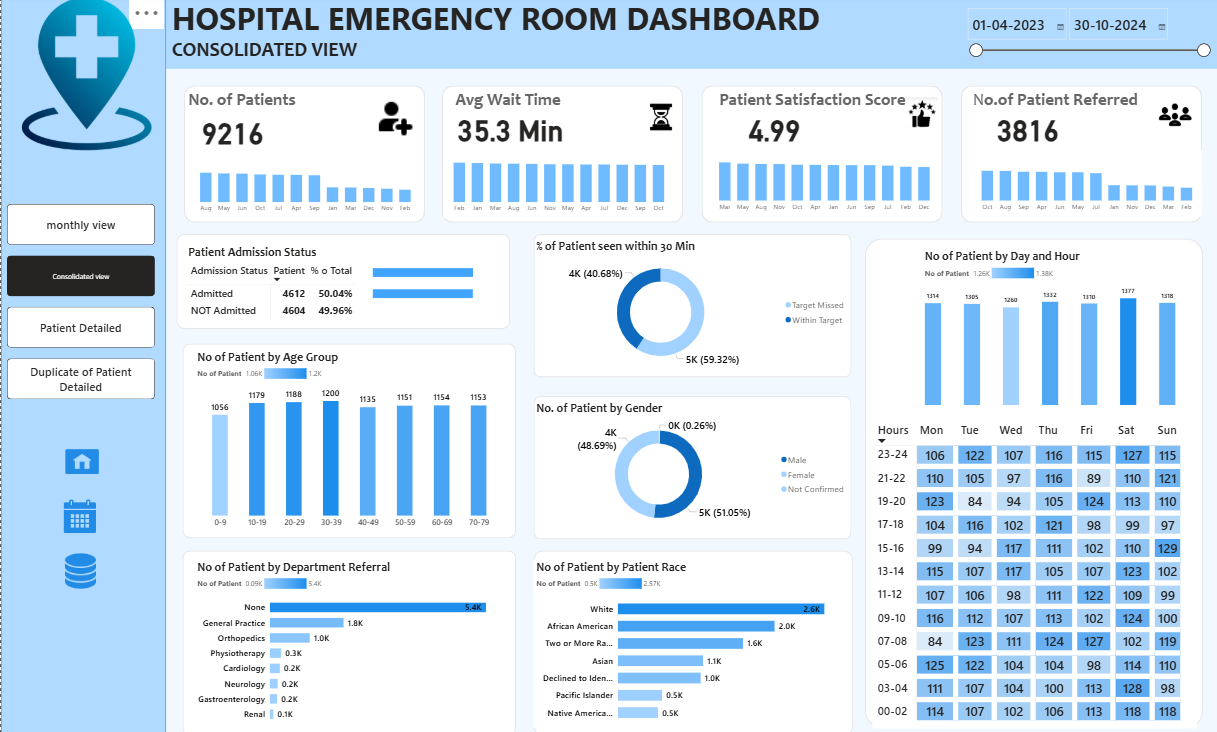

Layout of this report page (visuals, bound fields, positions):
{"tool":"powerbi","page":{"name":"Consolidated view","canvas":[2300,1400],"ordinal":1},"visuals":[{"type":"shape","box":[0,0,311.8,1400],"z":0},{"type":"shape","box":[311.8,0,1987,141.2],"z":1000},{"type":"textbox","box":[317.6,0,1979.4,105.9],"z":2000},{"type":"shape","box":[344.1,172.8,455,258.8],"z":3000},{"type":"textbox","box":[347.1,173.5,261.8,67.6],"z":4000},{"type":"card","fields":{"Values":["Hospital ER_Data.No of Patient"]},"box":[347.1,214.7,176.5,82.4],"z":5000},{"type":"slicer","fields":{"Values":["Date Table.Date"]},"box":[1811.8,17.6,479.4,105.9],"z":6000},{"type":"textbox","box":[317.6,76.5,379.4,97.1],"z":8000},{"type":"columnChart","fields":{"Y":["Hospital ER_Data.No of Patient"],"Category":["Date Table.Month Name"]},"box":[356.9,298,435.3,125],"z":9000},{"type":"shape","box":[833.3,172.8,455,258.8],"z":11000},{"type":"textbox","box":[852.9,173.5,261.8,67.6],"z":12000},{"type":"card","fields":{"Values":["Hospital ER_Data.Avg Wait Time"]},"box":[852.9,208.8,217.6,82.4],"z":13000},{"type":"columnChart","fields":{"Y":["Avg(Hospital ER_Data.Patient Waittime)"],"Category":["Date Table.Month Name"]},"box":[836.3,298,435.3,125],"z":14000},{"type":"shape","box":[1811.8,172.8,455,258.8],"z":15000},{"type":"shape","box":[1322.5,172.8,455,258.8],"z":16000},{"type":"textbox","box":[1350,173.5,388.2,58.8],"z":17000},{"type":"card","fields":{"Values":["Hospital ER_Data.Satisfaction Score"]},"box":[1350,208.8,217.6,82.4],"z":18000},{"type":"columnChart","fields":{"Y":["Avg(Hospital ER_Data.Patient Satisfaction Score)"],"Category":["Date Table.Month Name"]},"box":[1336.3,295.1,435.3,125],"z":19000},{"type":"textbox","box":[1829.4,173.5,394.1,67.6],"z":20000},{"type":"card","fields":{"Values":["Hospital ER_Data.No.of Patient Referred"]},"box":[1829.4,208.8,217.6,82.4],"z":21000},{"type":"columnChart","fields":{"Category":["Date Table.Month Name"],"Y":["Hospital ER_Data.No.of Patient Referred"]},"box":[1830.4,295.1,435.3,125],"z":22000},{"type":"shape","box":[332.4,452.9,629.4,179.4],"z":23000},{"type":"pivotTable","title":"Patient Admission Status","fields":{"Rows":["Hospital ER_Data.Admission Status"],"Values":["Hospital ER_Data.No of Patient1","Hospital ER_Data.No of Patient"]},"box":[347.1,473.5,614.7,158.8],"z":24000},{"type":"barChart","fields":{"Category":["Hospital ER_Data.Admission Status"],"Y":["Hospital ER_Data.No of Patient"]},"box":[697.1,485.3,255.9,117.6],"z":25000},{"type":"shape","box":[341.2,658.8,629.4,367.6],"z":26000},{"type":"clusteredColumnChart","fields":{"Category":["Hospital ER_Data.Age Group"],"Y":["Hospital ER_Data.No of Patient"]},"box":[364.7,670.6,585.3,347.1],"z":27000},{"type":"shape","box":[1005.9,452.9,600,270.6],"z":28000},{"type":"shape","box":[341.2,1050,629.4,350],"z":29000},{"type":"clusteredBarChart","fields":{"Category":["Hospital ER_Data.Department Referral"],"Y":["Hospital ER_Data.No of Patient"]},"box":[364.7,1067.6,582.4,317.6],"z":30000},{"type":"donutChart","title":"% of Patient seen within 30 Min","fields":{"Category":["Hospital ER_Data.waittime Status"],"Y":["Hospital ER_Data.No of Patient"]},"box":[1005.9,461.8,600,250],"z":31000},{"type":"shape","box":[1005.9,758.8,600,270.6],"z":32000},{"type":"donutChart","title":"No. of Patient by Gender","fields":{"Y":["Hospital ER_Data.No of Patient"],"Category":["Hospital ER_Data.Patient Gender"]},"box":[1005.9,767.6,600,250],"z":33000},{"type":"shape","box":[1005.9,1050,602.9,350],"z":34000},{"type":"clusteredBarChart","fields":{"Y":["Hospital ER_Data.No of Patient"],"Category":["Hospital ER_Data.Patient Race"]},"box":[1005.9,1067.6,582.4,317.6],"z":35000},{"type":"shape","box":[1629.4,461.8,638.2,923.5],"z":36000},{"type":"pivotTable","fields":{"Rows":["Hospital ER_Data.Waittime Interval"],"Columns":["Date Table.Day Name"],"Values":["Hospital ER_Data.No of Patient"]},"box":[1644.1,800,611.8,585.3],"z":37000},{"type":"columnChart","title":"No of Patient by Day and Hour","fields":{"Category":["Date Table.Day Name"],"Y":["Hospital ER_Data.No of Patient"]},"box":[1738.2,482.4,485.3,300],"z":38000},{"type":"image","box":[1202.9,197.1,85.3,67.6],"z":39000},{"type":"image","box":[708.8,197.1,73.5,73.5],"z":40000},{"type":"image","box":[1688.2,188.2,100,67.6],"z":41000},{"type":"image","box":[2173.5,170.6,82.4,114.7],"z":42000},{"type":"image","box":[11.8,0,300,300],"z":43000},{"type":"pageNavigator","box":[11.8,397.1,279.4,370.6],"z":43001}]}

Visuals, with their boxes on the page's 2300x1400 design canvas (x1, y1, x2, y2). These are canvas units, not pixel positions in the 1217x732 screenshot, which may show the page scaled, cropped or inside an application window:
shape: bbox=[0, 0, 312, 1400]
shape: bbox=[312, 0, 2299, 141]
textbox: bbox=[318, 0, 2297, 106]
shape: bbox=[344, 173, 799, 432]
textbox: bbox=[347, 174, 609, 241]
card - Hospital ER_Data.No of Patient: bbox=[347, 215, 524, 297]
slicer - Date Table.Date: bbox=[1812, 18, 2291, 124]
textbox: bbox=[318, 76, 697, 174]
columnChart - Hospital ER_Data.No of Patient x Date Table.Month Name: bbox=[357, 298, 792, 423]
shape: bbox=[833, 173, 1288, 432]
textbox: bbox=[853, 174, 1115, 241]
card - Hospital ER_Data.Avg Wait Time: bbox=[853, 209, 1070, 291]
columnChart - Avg(Hospital ER_Data.Patient Waittime) x Date Table.Month Name: bbox=[836, 298, 1272, 423]
shape: bbox=[1812, 173, 2267, 432]
shape: bbox=[1322, 173, 1778, 432]
textbox: bbox=[1350, 174, 1738, 232]
card - Hospital ER_Data.Satisfaction Score: bbox=[1350, 209, 1568, 291]
columnChart - Avg(Hospital ER_Data.Patient Satisfaction Score) x Date Table.Month Name: bbox=[1336, 295, 1772, 420]
textbox: bbox=[1829, 174, 2224, 241]
card - Hospital ER_Data.No.of Patient Referred: bbox=[1829, 209, 2047, 291]
columnChart - Date Table.Month Name x Hospital ER_Data.No.of Patient Referred: bbox=[1830, 295, 2266, 420]
shape: bbox=[332, 453, 962, 632]
"Patient Admission Status" pivotTable: bbox=[347, 474, 962, 632]
barChart - Hospital ER_Data.Admission Status x Hospital ER_Data.No of Patient: bbox=[697, 485, 953, 603]
shape: bbox=[341, 659, 971, 1026]
clusteredColumnChart - Hospital ER_Data.Age Group x Hospital ER_Data.No of Patient: bbox=[365, 671, 950, 1018]
shape: bbox=[1006, 453, 1606, 724]
shape: bbox=[341, 1050, 971, 1400]
clusteredBarChart - Hospital ER_Data.Department Referral x Hospital ER_Data.No of Patient: bbox=[365, 1068, 947, 1385]
"% of Patient seen within 30 Min" donutChart: bbox=[1006, 462, 1606, 712]
shape: bbox=[1006, 759, 1606, 1029]
"No. of Patient by Gender" donutChart: bbox=[1006, 768, 1606, 1018]
shape: bbox=[1006, 1050, 1609, 1400]
clusteredBarChart - Hospital ER_Data.No of Patient x Hospital ER_Data.Patient Race: bbox=[1006, 1068, 1588, 1385]
shape: bbox=[1629, 462, 2268, 1385]
pivotTable - Hospital ER_Data.Waittime Interval x Date Table.Day Name: bbox=[1644, 800, 2256, 1385]
"No of Patient by Day and Hour" columnChart: bbox=[1738, 482, 2224, 782]
image: bbox=[1203, 197, 1288, 265]
image: bbox=[709, 197, 782, 271]
image: bbox=[1688, 188, 1788, 256]
image: bbox=[2174, 171, 2256, 285]
image: bbox=[12, 0, 312, 300]
pageNavigator: bbox=[12, 397, 291, 768]
